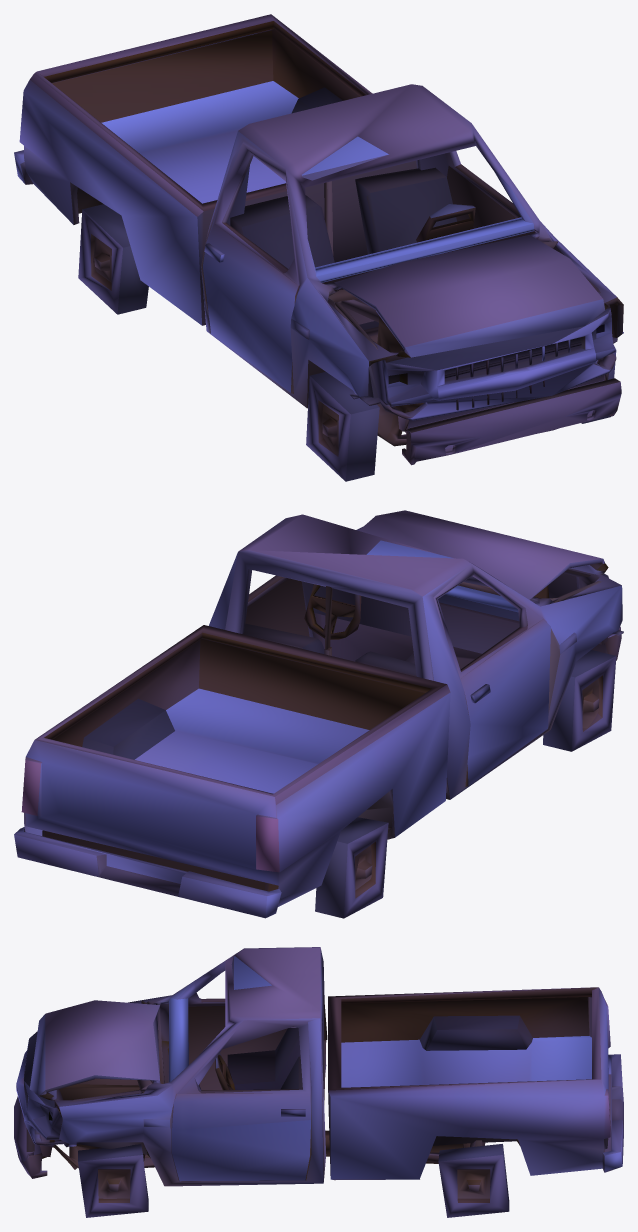
File: model.progressive.glb
3 views of the same model, one above another, from view 1: azimuth 30°, elevation 25°; view 2: azimuth 150°, elevation 25°; view 3: azimuth 270°, elevation 25° (orthographic). The views are drawn at different scales.
Visible parts, largest first — view 1: BrokenRustyPickupTruck3; view 2: BrokenRustyPickupTruck3; view 3: BrokenRustyPickupTruck3.
Boxes of the visible parts, box(x1,y1,x2,y2) form: BrokenRustyPickupTruck3: box(14, 14, 623, 481); BrokenRustyPickupTruck3: box(14, 510, 623, 918); BrokenRustyPickupTruck3: box(14, 947, 623, 1217).
Bounding box in the file's own units: 0.7713 × 0.6444 × 1.9.
1 material, 1 textured.
